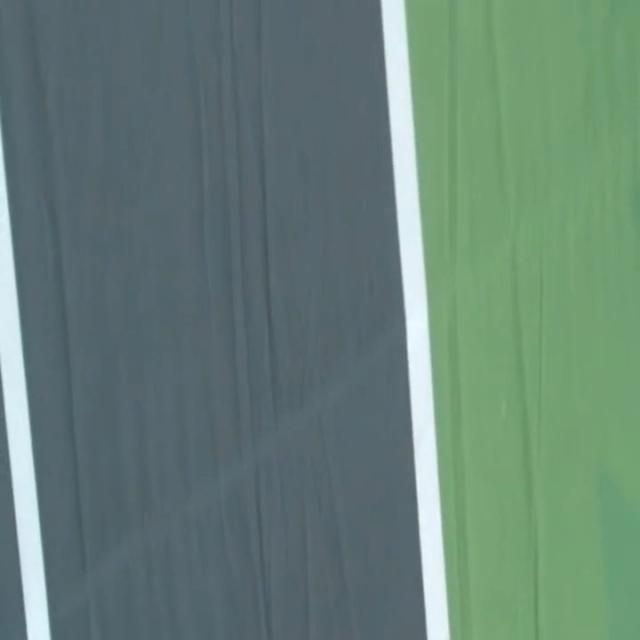right: (380, 0, 449, 639)
